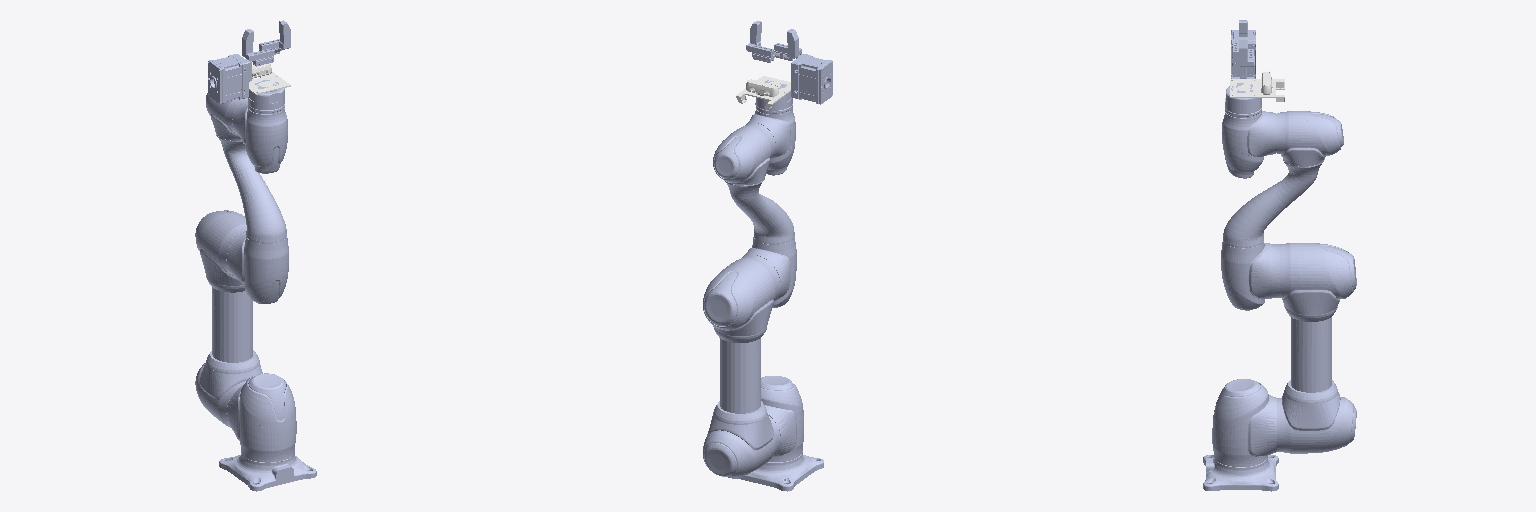
robot.urdf — doosan:
<?xml version="1.0" encoding="utf-8"?>
<!-- This URDF was automatically created by SolidWorks to URDF Exporter! Originally created by Stephen Brawner (brawner@gmail.com) 
     Commit Version: 1.6.0-4-g7f85cfe  Build Version: 1.6.7995.38578
     For more information, please see http://wiki.ros.org/sw_urdf_exporter -->
<robot
  name="doosan">
  <link
    name="base_link">
    <inertial>
      <origin
        xyz="2.3957E-05 -0.0011683 0.02198"
        rpy="0 0 0" />
      <mass
        value="0.97709" />
      <inertia
        ixx="0.0020793"
        ixy="-1.4017E-06"
        ixz="3.1129E-07"
        iyy="0.0019994"
        iyz="9.2997E-06"
        izz="0.0037173" />
    </inertial>
    <visual>
      <origin
        xyz="0 0 0"
        rpy="0 0 0" />
      <geometry>
        <mesh
          filename="./meshes/doosan/base_link.STL" />
      </geometry>
      <material
        name="">
        <color
          rgba="0.79216 0.81961 0.93333 1" />
      </material>
    </visual>
    <collision>
      <origin
        xyz="0 0 0"
        rpy="0 0 0" />
      <geometry>
        <mesh
          filename="./meshes/doosan/base_link.STL" />
      </geometry>
    </collision>
  </link>

  <link
    name="link1">
    <inertial>
      <origin
        xyz="-3.4776E-07 0.010586 0.0028406"
        rpy="0 0 0" />
      <mass
        value="2.9974" />
      <inertia
        ixx="0.011807"
        ixy="-6.2116E-08"
        ixz="4.9174E-08"
        iyy="0.01118"
        iyz="-0.00027795"
        izz="0.007991" />
    </inertial>
    <visual>
      <origin
        xyz="0 0 0"
        rpy="0 0 0" />
      <geometry>
        <mesh
          filename="./meshes/doosan/link1.STL" />
      </geometry>
      <material
        name="">
        <color
          rgba="0.79216 0.81961 0.93333 1" />
      </material>
    </visual>
    <collision>
      <origin
        xyz="0 0 0"
        rpy="0 0 0" />
      <geometry>
        <mesh
          filename="./meshes/doosan/link1.STL" />
      </geometry>
    </collision>
  </link>

  <joint
    name="joint1"
    type="revolute">
    <origin
      xyz="0 0 0.135"
      rpy="0 0 0" />
    <parent
      link="base_link" />
    <child
      link="link1" />
    <axis
      xyz="0 0 -1" />
    <limit
      lower="-3.14"
      upper="3.14"
      effort="100"
      velocity="1" />
  </joint>
  <link
    name="link2">
    <inertial>
      <origin
        xyz="0.21015 -1.2744E-06 0.16667"
        rpy="0 0 0" />
      <mass
        value="6.2653" />
      <inertia
        ixx="0.022883"
        ixy="1.5989E-07"
        ixz="4.418E-09"
        iyy="0.023886"
        iyz="-3.1099E-08"
        izz="0.016255" />
    </inertial>
    <visual>
      <origin
        xyz="0 0 0"
        rpy="0 0 0" />
      <geometry>
        <mesh
          filename="./meshes/doosan/link2.STL" />
      </geometry>
      <material
        name="">
        <color
          rgba="0.79216 0.81961 0.93333 1" />
      </material>
    </visual>
    <collision>
      <origin
        xyz="0 0 0"
        rpy="0 0 0" />
      <geometry>
        <mesh
          filename="./meshes/doosan/link2.STL" />
      </geometry>
    </collision>
  </link>

  <joint
    name="joint2"
    type="revolute">
    <origin
      xyz="0 0.00625 0"
      rpy="-1.5708 -1.5708 0" />
    <parent
      link="link1" />
    <child
      link="link2" />
    <axis
      xyz="0 0 -1" />
    <limit
      lower="-3.14"
      upper="3.14"
      effort="100"
      velocity="1" />
  </joint>
  <link
    name="link3">
    <inertial>
      <origin
        xyz="3.8767E-07 -0.0033757 0.01539"
        rpy="0 0 0" />
      <mass
        value="1.9385" />
      <inertia
        ixx="0.0061255"
        ixy="2.3005E-08"
        ixz="7.1566E-08"
        iyy="0.0037984"
        iyz="-0.00027367"
        izz="0.005632" />
    </inertial>
    <visual>
      <origin
        xyz="0 0 0"
        rpy="0 0 0" />
      <geometry>
        <mesh
          filename="./meshes/doosan/link3.STL" />
      </geometry>
      <material
        name="">
        <color
          rgba="0.79216 0.81961 0.93333 1" />
      </material>
    </visual>
    <collision>
      <origin
        xyz="0 0 0"
        rpy="0 0 0" />
      <geometry>
        <mesh
          filename="./meshes/doosan/link3.STL" />
      </geometry>
    </collision>
  </link>
  <joint
    name="joint3"
    type="revolute">
    <origin
      xyz="0.411 0 0"
      rpy="0 0 1.5708" />
    <parent
      link="link2" />
    <child
      link="link3" />
    <axis
      xyz="0 0 -1" />
    <limit
      lower="-3.14"
      upper="3.14"
      effort="100"
      velocity="1" />
  </joint>
  <link
    name="link4">
    <inertial>
      <origin
        xyz="1.07001534433616E-07 0.113173220849891 -0.0862047441829883"
        rpy="0 0 0" />
      <mass
        value="2.71087450838016" />
      <inertia
        ixx="0.0133737045412768"
        ixy="1.07586012783777E-07"
        ixz="3.01251862812401E-08"
        iyy="0.00783041109974769"
        iyz="-0.00421442986424539"
        izz="0.00878415045435991" />
    </inertial>
    <visual>
      <origin
        xyz="0 0 0"
        rpy="0 0 0" />
      <geometry>
        <mesh
          filename="./meshes/doosan/link4.STL" />
      </geometry>
      <material
        name="">
        <color
          rgba="0.792156862745098 0.819607843137255 0.933333333333333 1" />
      </material>
    </visual>
    <collision>
      <origin
        xyz="0 0 0"
        rpy="0 0 0" />
      <geometry>
        <mesh
          filename="./meshes/doosan/link4.STL" />
      </geometry>
    </collision>
  </link>
  <joint
    name="joint4"
    type="revolute">
    <origin
      xyz="0 -0.368 0"
      rpy="1.5708 0 0" />
    <parent
      link="link3" />
    <child
      link="link4" />
    <axis
      xyz="0 0 -1" />
    <limit
      lower="-3.14"
      upper="3.14"
      effort="100"
      velocity="1" />
  </joint>
  <link
    name="link5">
    <inertial>
      <origin
        xyz="-2.2988E-05 0.011263 0.011617"
        rpy="0 0 0" />
      <mass
        value="1.5052" />
      <inertia
        ixx="0.0041591"
        ixy="1.6443E-06"
        ixz="-5.1023E-07"
        iyy="0.0025072"
        iyz="0.00017373"
        izz="0.003627" />
    </inertial>
    <visual>
      <origin
        xyz="0 0 0"
        rpy="0 0 0" />
      <geometry>
        <mesh
          filename="./meshes/doosan/link5.STL" />
      </geometry>
      <material
        name="">
        <color
          rgba="0.79216 0.81961 0.93333 1" />
      </material>
    </visual>
    <collision>
      <origin
        xyz="0 0 0"
        rpy="0 0 0" />
      <geometry>
        <mesh
          filename="./meshes/doosan/link5.STL" />
      </geometry>
    </collision>
  </link>
  <joint
    name="joint5"
    type="revolute">
    <origin
      xyz="0 0 0"
      rpy="-1.5708 0 0" />
    <parent
      link="link4" />
    <child
      link="link5" />
    <axis
      xyz="0 0 -1" />
    <limit
      lower="-3.14"
      upper="3.14"
      effort="100"
      velocity="1" />
  </joint>

  <link
    name="link6">
    <inertial>
      <origin
        xyz="0.00018561 0.00013564 -0.032134"
        rpy="0 0 0" />
      <mass
        value="0.34454" />
      <inertia
        ixx="0.00021496"
        ixy="1.4863E-08"
        ixz="-4.1564E-07"
        iyy="0.00021496"
        iyz="-4.1578E-07"
        izz="0.00033337" />
    </inertial>
    <visual>
      <origin
        xyz="0 0 0"
        rpy="0 0 0" />
      <geometry>
        <mesh
          filename="./meshes/doosan/link6.STL" />
      </geometry>
      <material
        name="">
        <color
          rgba="0.79216 0.81961 0.93333 1" />
      </material>
    </visual>
    <collision>
      <origin
        xyz="0 0 0"
        rpy="0 0 0" />
      <geometry>
        <mesh
          filename="./meshes/doosan/link6.STL" />
      </geometry>
    </collision>
  </link>

  <joint
    name="joint6"
    type="revolute">
    <origin
      xyz="0 -0.121 0"
      rpy="1.5708 0 0" />
    <parent
      link="link5" />
    <child
      link="link6" />
    <axis
      xyz="0 0 -1" />
    <limit
      lower="-3.14"
      upper="3.14"
      effort="100"
      velocity="1" />
  </joint>

<!--################################################
  ########          gripper                #####
  ####################################################-->
  <joint name="gripper_base_joint" type="fixed">
    <parent link="camera_base"/>
    <child link="gripper_base_link"/>
    <origin rpy="0 0 0" xyz="0 0 0"/>
  </joint>

  <link
    name="gripper_base_link">
    <inertial>
      <origin
        xyz="0.000776249315939448 -9.32733579416881E-05 0.0353238890747118"
        rpy="0 0 0" />
      <mass
        value="0.175159784385337" />
      <inertia
        ixx="8.17697339684563E-05"
        ixy="-3.45127488505508E-09"
        ixz="-1.78295110539977E-06"
        iyy="0.000167947939418876"
        iyz="-4.09263769978131E-08"
        izz="0.000222515998258674" />
    </inertial>
    <visual>
      <origin
        xyz="0 0 0"
        rpy="0 0 0" />
      <geometry>
        <mesh
          filename="./meshes/gripper/gripper_base_link.STL" />
      </geometry>
      <material
        name="">
        <color
          rgba="0.792156862745098 0.819607843137255 0.933333333333333 1" />
      </material>
    </visual>
    <collision>
      <origin
        xyz="0 0 0"
        rpy="0 0 0" />
      <geometry>
        <mesh
          filename="./meshes/gripper/gripper_base_link.STL" />
      </geometry>
    </collision>
  </link>


  <link
    name="left_link">
    <inertial>
      <origin
        xyz="0.037632 -0.0088006 0.00096534"
        rpy="0 0 0" />
      <mass
        value="0.055911" />
      <inertia
        ixx="1.8833E-05"
        ixy="4.3686E-06"
        ixz="-4.9039E-06"
        iyy="3.1447E-05"
        iyz="3.7712E-06"
        izz="2.217E-05" />
    </inertial>
    <visual>
      <origin
        xyz="0 0 0"
        rpy="0 0 0" />
      <geometry>
        <mesh
          filename="./meshes/gripper/left_link.STL" />
      </geometry>
      <material
        name="">
        <color
          rgba="0.79216 0.81961 0.93333 1" />
      </material>
    </visual>
    <collision>
      <origin
        xyz="0 0 0"
        rpy="0 0 0" />
      <geometry>
        <mesh
          filename="./meshes/gripper/left_link.STL" />
      </geometry>
    </collision>
  </link>
  <joint
    name="left_joint"
    type="prismatic">
    <origin
      xyz="-0.04 0 0.14124"
      rpy="0 1.5708 0" />
    <parent
      link="gripper_base_link" />
    <child
      link="left_link" />
    <axis
      xyz="0 0 -1" />
    <limit
      lower="-0.04"
      upper="0"
      effort="100"
      velocity="1" />
  </joint>
  <link
    name="right_link">
    <inertial>
      <origin
        xyz="-0.037632201993843 0.00880061259646711 0.000965336223160473"
        rpy="0 0 0" />
      <mass
        value="0.0559111685912142" />
      <inertia
        ixx="1.88326524562505E-05"
        ixy="4.36861035916738E-06"
        ixz="4.90389857081758E-06"
        iyy="3.1447169883483E-05"
        iyz="-3.77124422603238E-06"
        izz="2.21699046566701E-05" />
    </inertial>
    <visual>
      <origin
        xyz="0 0 0"
        rpy="0 0 0" />
      <geometry>
        <mesh
          filename="./meshes/gripper/right_link.STL" />
      </geometry>
      <material
        name="">
        <color
          rgba="0.792156862745098 0.819607843137255 0.933333333333333 1" />
      </material>
    </visual>
    <collision>
      <origin
        xyz="0 0 0"
        rpy="0 0 0" />
      <geometry>
        <mesh
          filename="./meshes/gripper/right_link.STL" />
      </geometry>
    </collision>
  </link>
  <joint
    name="right_joint"
    type="prismatic">
    <origin
      xyz="0.04 0 0.14124"
      rpy="0 -1.5708 0" />
    <parent
      link="gripper_base_link" />
    <child
      link="right_link" />
    <axis
      xyz="0 0 -1" />
    <limit
      lower="-0.04"
      upper="0"
      effort="100"
      velocity="1" />
  </joint>


<!--################################################
  ########          camera                #####
  ####################################################-->
  <joint name="camera_base_joint" type="fixed">
    <parent link="link6"/>
    <child link="camera_base"/>
    <origin rpy="0 0 0" xyz="0 0 0"/>
  </joint>


<link
    name="camera_base">
    <inertial>
      <origin
        xyz="-0.00320923351476894 0.00236058027496896 -0.000237317798973645"
        rpy="0 0 0" />
      <mass
        value="1.30332010249206" />
      <inertia
        ixx="0.000166735070053314"
        ixy="-4.05577592850351E-08"
        ixz="1.13413794535214E-05"
        iyy="0.00080694008468872"
        iyz="1.9920688139112E-06"
        izz="0.000850542717635519" />
    </inertial>

    <visual>
      <origin
        xyz="0 0 0"
        rpy="0 0 0" />
      <geometry>
        <mesh
          filename="./meshes/camera_board/camera.STL" />
      </geometry>
      <material
        name="">
        <color
          rgba="1 1 1 1" />
      </material>
    </visual>
    <collision>
      <origin
        xyz="0 0 0"
        rpy="0 0 0" />
      <geometry>
        <mesh
          filename="./meshes/camera_board/camera.STL" />
      </geometry>
    </collision>
  </link>
  <link
    name="rgb_link">
    <inertial>
      <origin
        xyz="0.033133 0.025943 -0.027349"
        rpy="0 0 0" />
      <mass value="0" />
      <inertia
        ixx="0.0"
        ixy="0.0"
        ixz="0.0"
        iyy="0.0"
        iyz="0.0"
        izz="0.0" />
    </inertial>
  </link>

  <joint
    name="rgb_optical_joint"
    type="fixed">
    <origin
      xyz="0.02884283544 -0.0127416593639895 0.00311290518683242"
      rpy="-1.5707963267949 0 3.14159265358979" />
    <parent
      link="camera_base" />
    <child
      link="rgb_link" />
    <axis
      xyz="0 0 0" />
  </joint>

  <link
    name="right_camera_link">
    <inertial>
      <origin
        xyz="0.0181329722954641 0.0259425264235928 -0.0273488462636874"
        rpy="0 0 0" />
      <mass value="0" />
      <inertia
        ixx="0.0"
        ixy="0.0"
        ixz="0.0"
        iyy="0.0"
        iyz="0.0"
        izz="0.0" />
    </inertial>
  </link>

  <joint
    name="right_opticla_joint"
    type="fixed">
    <origin
      xyz="0.013843 -0.012742 0.0031129"
      rpy="-1.5708 0 3.1416" />
    <parent
      link="camera_base" />
    <child
      link="right_camera_link" />
    <axis
      xyz="0 0 0" />
  </joint>

  <link
    name="left_camera_link">
    <inertial>
      <origin
        xyz="-0.031867 0.025943 -0.027349"
        rpy="0 0 0" />
      <mass value="0" />
      <inertia
        ixx="0.0"
        ixy="0.0"
        ixz="0.0"
        iyy="0.0"
        iyz="0.0"
        izz="0.0" />
    </inertial>
  </link>

  <joint
    name="left_joint"
    type="fixed">
    <origin
      xyz="-0.036157 -0.012742 0.0031129"
      rpy="-1.5708 0 3.1416" />
    <parent
      link="camera_base" />
    <child
      link="left_camera_link" />
    <axis
      xyz="0 0 0" />
  </joint>

</robot>

--- Render facts (derived) ---
3 views of the same robot in one strip: view 1: azimuth 30°, elevation 25°; view 2: azimuth 150°, elevation 25°; view 3: azimuth 270°, elevation 25° (orthographic).
Model doosan with 14 links and 13 joints (6 revolute, 2 prismatic, 5 fixed), rooted at base_link, posed every joint at zero.
Links seen in each view (by area): view 1: link2, link1, link4, link3, link5, base_link, gripper_base_link, link6, camera_base, left_link; view 2: link2, link4, link1, gripper_base_link, base_link, link5, link3, camera_base, right_link, left_link, link6; view 3: link2, link4, link1, link3, link5, base_link, camera_base, link6, gripper_base_link.
Link boxes in pixels (bbox=[...]): link2: bbox=[195, 210, 262, 427]; link1: bbox=[227, 373, 296, 462]; link4: bbox=[206, 93, 286, 243]; link3: bbox=[227, 232, 288, 303]; link5: bbox=[232, 100, 287, 173]; base_link: bbox=[219, 453, 316, 491]; gripper_base_link: bbox=[208, 54, 251, 103]; link6: bbox=[248, 80, 284, 113]; camera_base: bbox=[249, 63, 290, 94]; left_link: bbox=[242, 29, 273, 66]; link2: bbox=[703, 255, 780, 477]; link4: bbox=[713, 123, 794, 244]; link1: bbox=[761, 376, 803, 461]; gripper_base_link: bbox=[791, 54, 832, 104]; base_link: bbox=[728, 451, 823, 491]; link5: bbox=[746, 108, 795, 175]; link3: bbox=[742, 237, 796, 307]; camera_base: bbox=[736, 76, 790, 109]; right_link: bbox=[746, 21, 774, 62]; left_link: bbox=[774, 29, 801, 60]; link6: bbox=[755, 80, 792, 114]; link2: bbox=[1277, 243, 1356, 453]; link4: bbox=[1223, 111, 1343, 247]; link1: bbox=[1212, 379, 1276, 466]; link3: bbox=[1221, 241, 1276, 310]; link5: bbox=[1222, 111, 1275, 178]; base_link: bbox=[1203, 455, 1278, 491]; camera_base: bbox=[1230, 71, 1284, 101]; link6: bbox=[1225, 83, 1261, 117]; gripper_base_link: bbox=[1231, 30, 1255, 78].
Bounding box of the posed robot: 0.2419 × 0.3718 × 1.19 m (x, y, z).
11 mesh visuals loaded from 11 distinct referenced files (11 binary STL).
